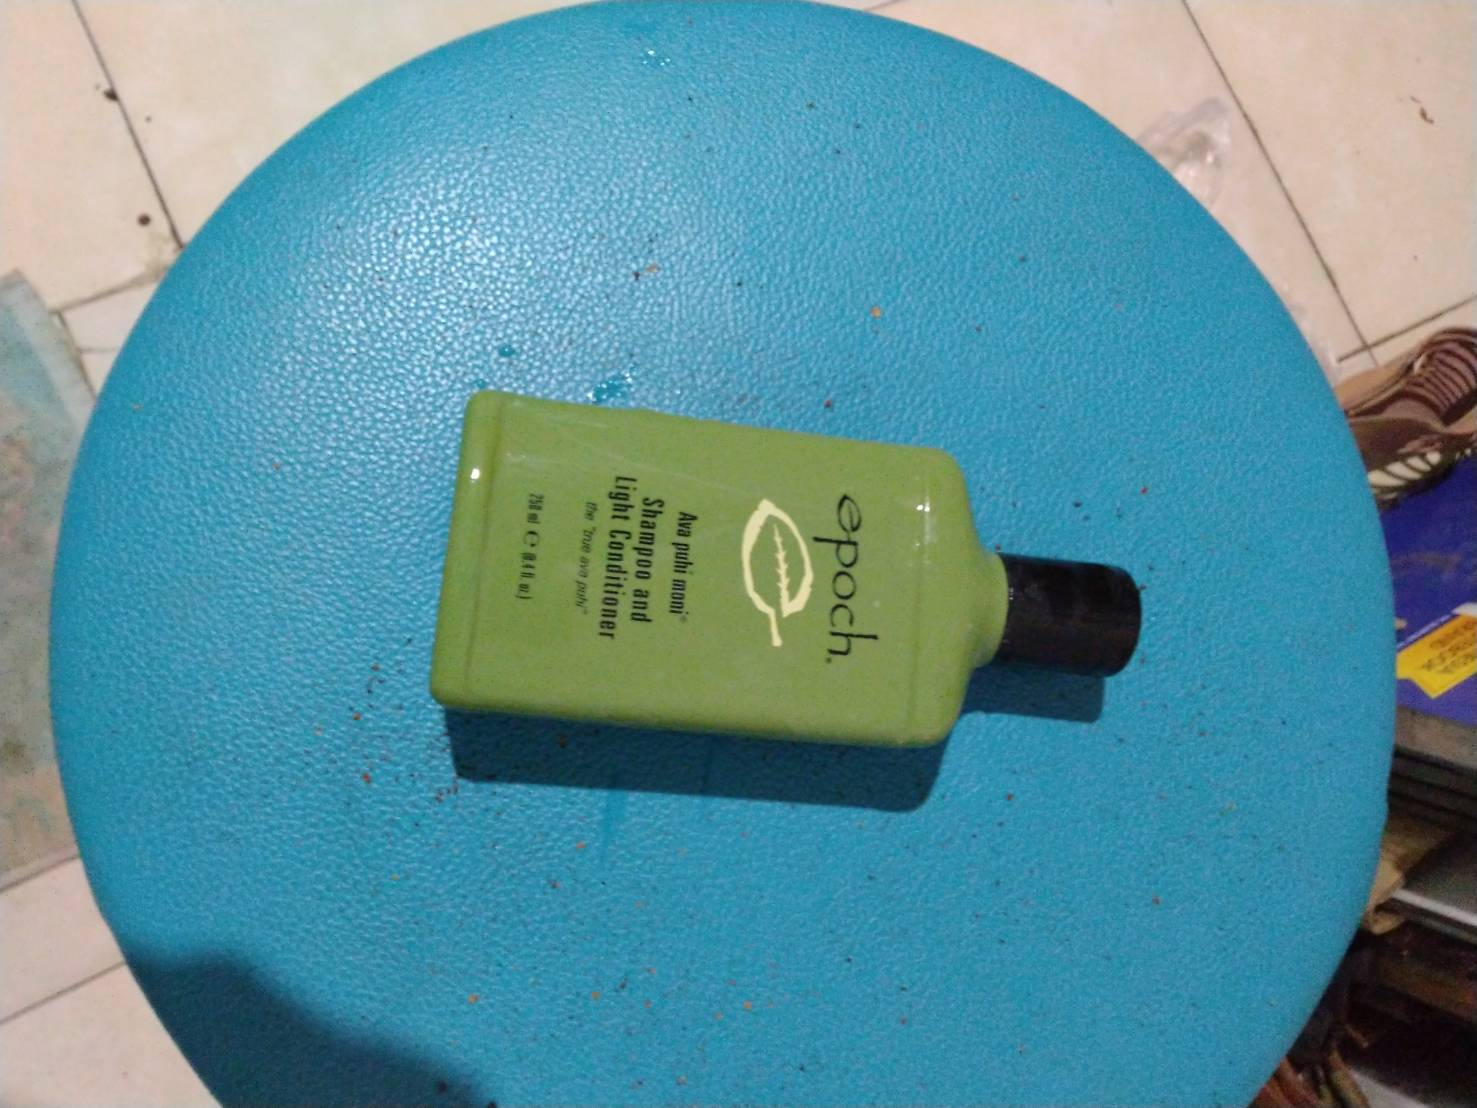HDPE: (425, 383, 1148, 757)
